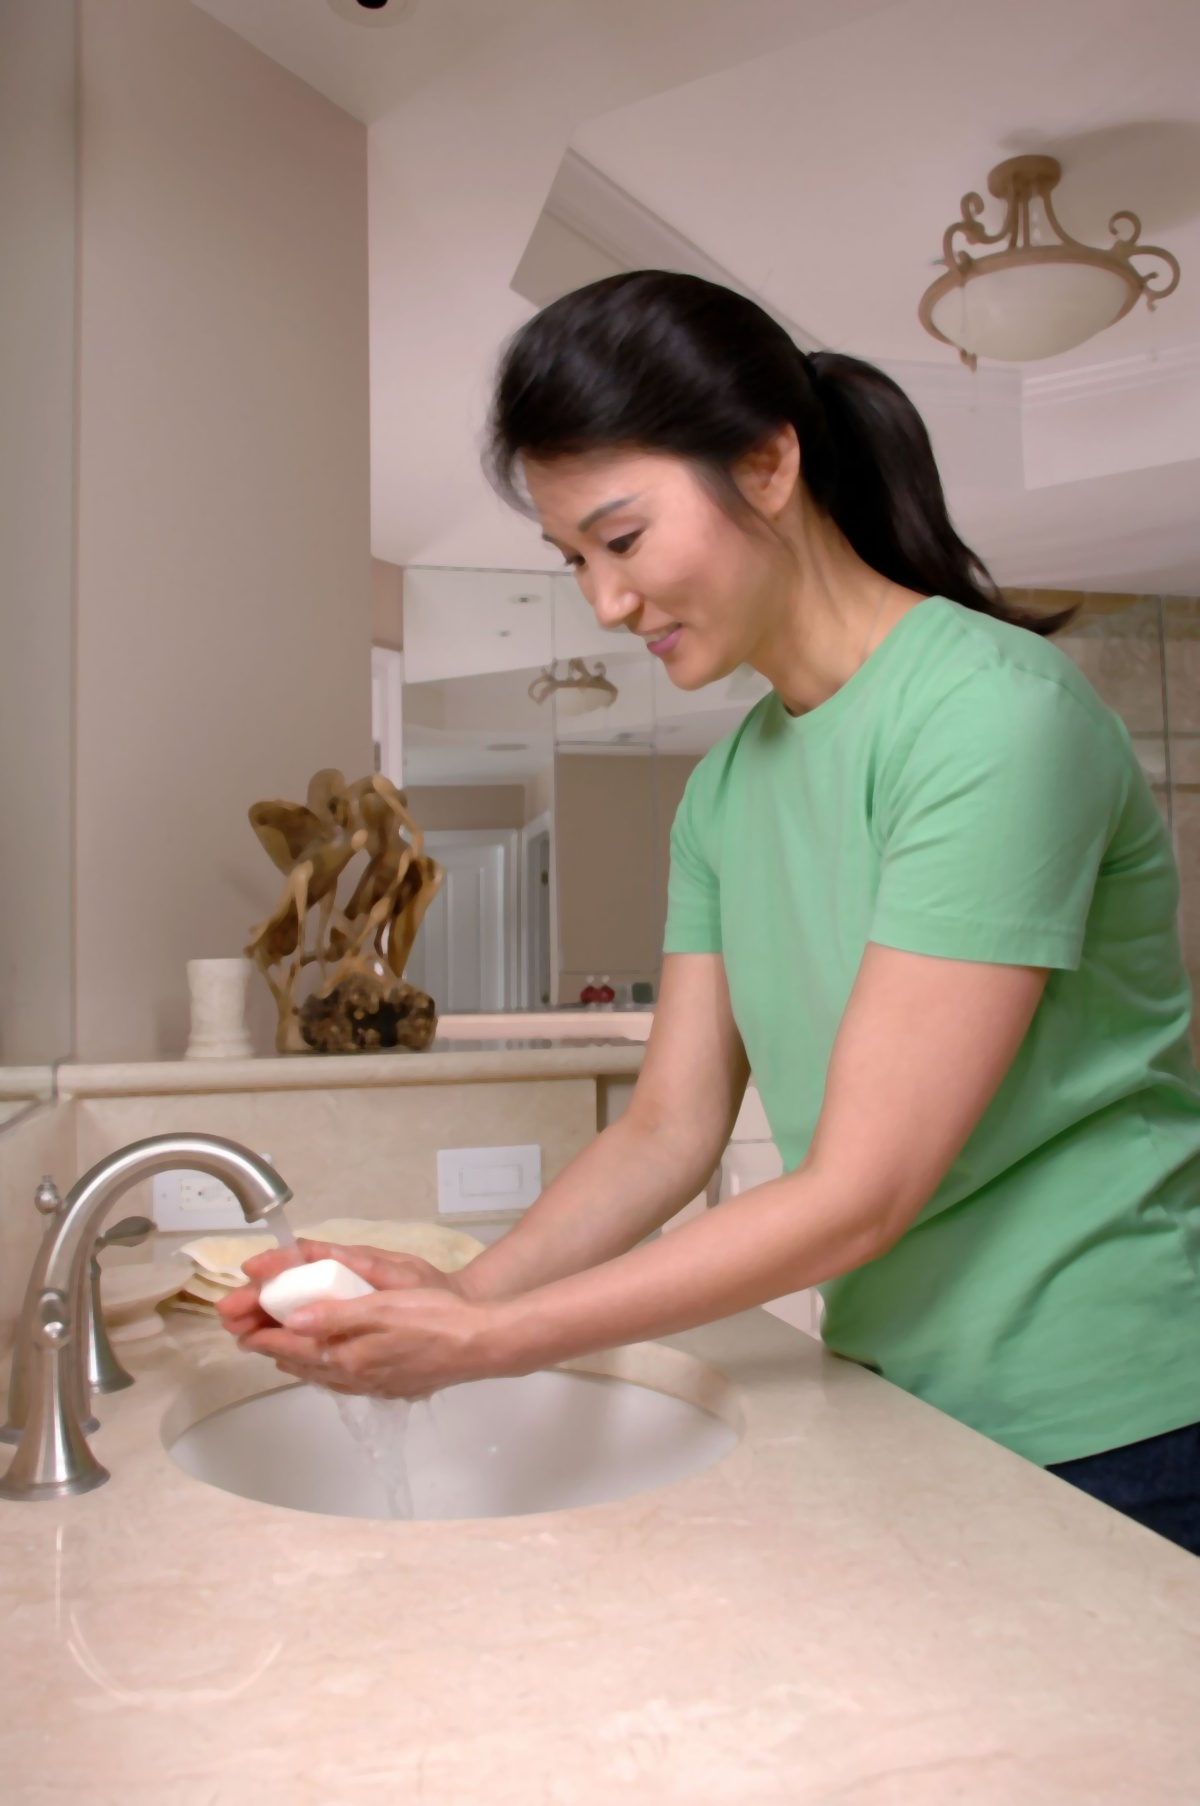washing hand: (24, 1071, 498, 1502)
